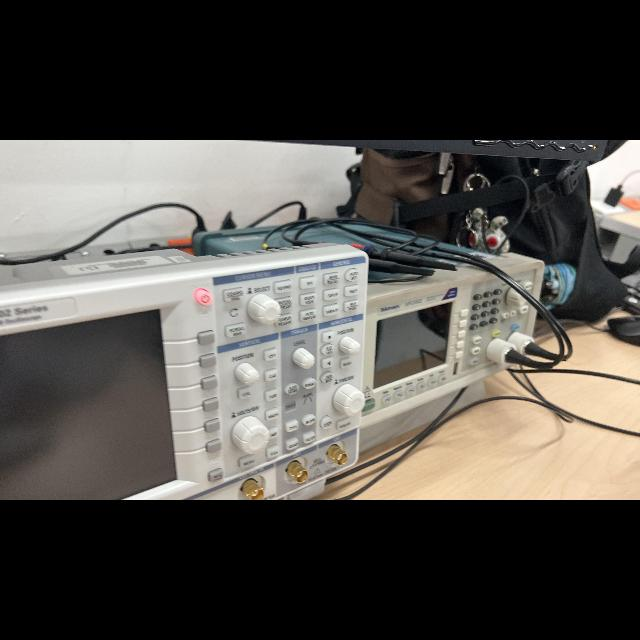Digital-Oscilloscope: (0, 244, 535, 499)
